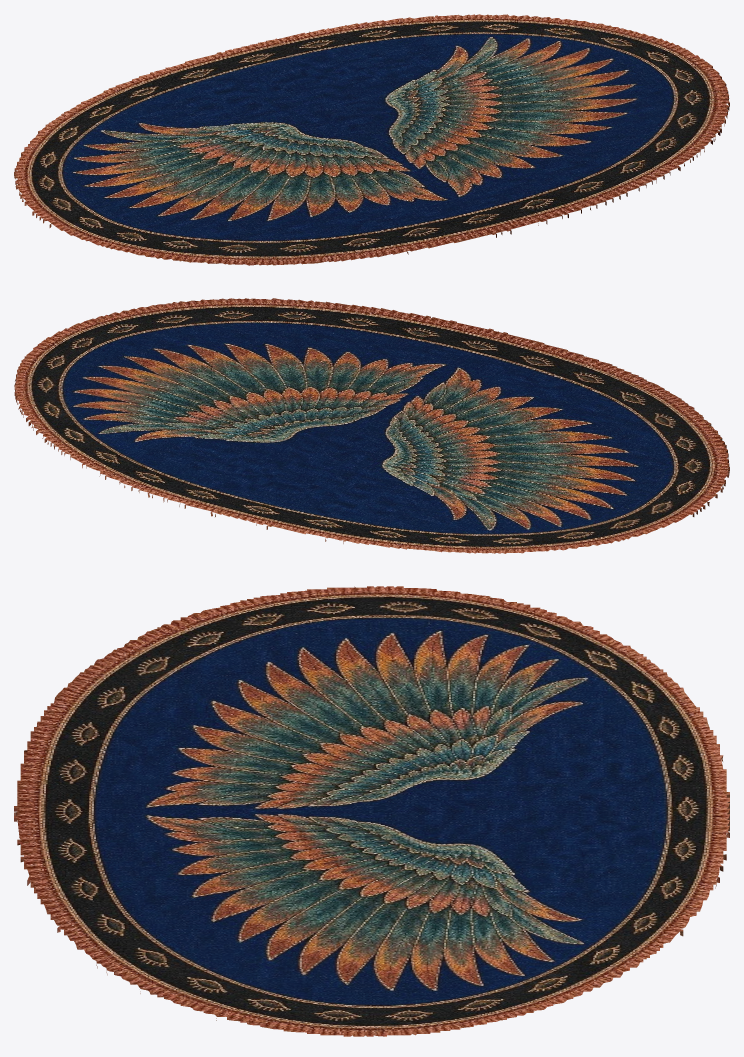
File: HY-11_rug_game.glb
The picture shows the model from 3 angles, top to bottom: view 1: azimuth 30°, elevation 25°; view 2: azimuth 150°, elevation 25°; view 3: azimuth 270°, elevation 25°; orthographic projection. The views are drawn at different scales.
Parts seen in each view (by area): view 1: HY-11_rug; view 2: HY-11_rug; view 3: HY-11_rug.
Part boxes in pixels (left/top/right/bottom): HY-11_rug: left=14, top=14, right=729, bottom=265; HY-11_rug: left=14, top=298, right=729, bottom=553; HY-11_rug: left=14, top=586, right=729, bottom=1036.
Size of the model in its own units: 2 by 0.012 by 1.34.
1 material, 1 textured.
